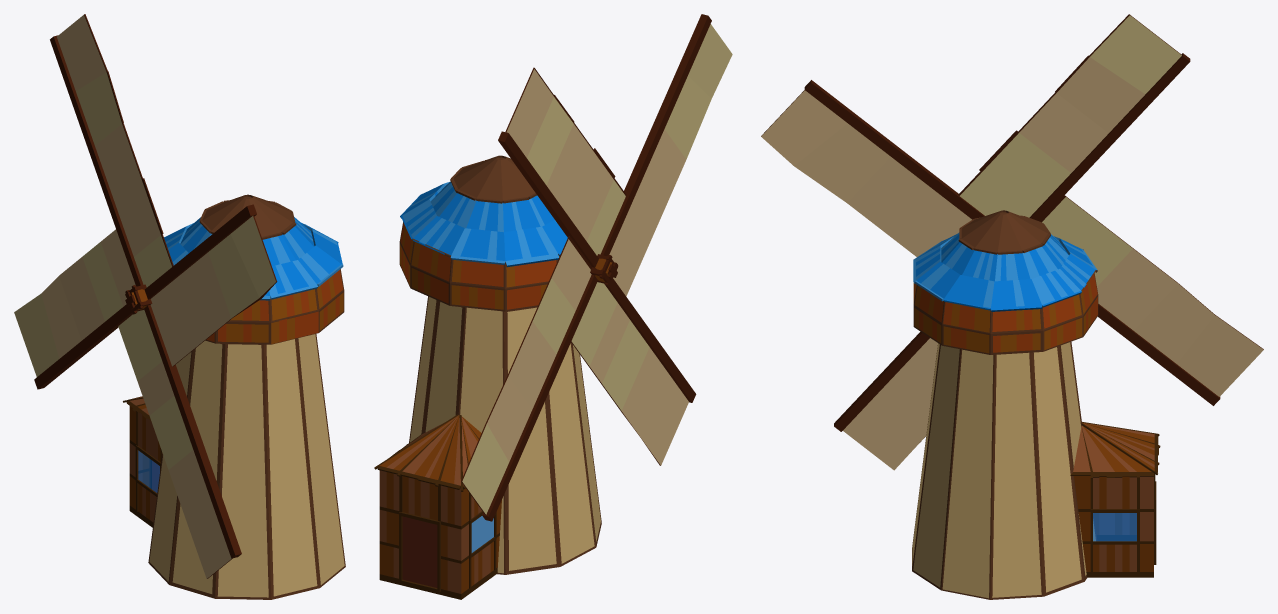
File: MoulinAnime.fbx
3 renders of one model, left to right at view 1: azimuth 30°, elevation 25°; view 2: azimuth 150°, elevation 25°; view 3: azimuth 270°, elevation 25°, orthographic. The views are drawn at different scales.
Visible parts, largest first — view 1: Cylinder.001, Cube.001, Cube; view 2: Cube.001, Cylinder.001, Cube; view 3: Cylinder.001, Cube.001, Cube.
Boxes of the visible parts, left/top/right/bottom form: Cylinder.001: left=148, top=194, right=345, bottom=599; Cube.001: left=14, top=14, right=277, bottom=578; Cube: left=123, top=396, right=162, bottom=527; Cube.001: left=461, top=14, right=732, bottom=521; Cylinder.001: left=399, top=155, right=601, bottom=574; Cube: left=374, top=414, right=501, bottom=599; Cylinder.001: left=912, top=210, right=1098, bottom=599; Cube.001: left=761, top=14, right=1263, bottom=470; Cube: left=1070, top=422, right=1160, bottom=577.
Size of the model in its own units: 231 by 575 by 525.
